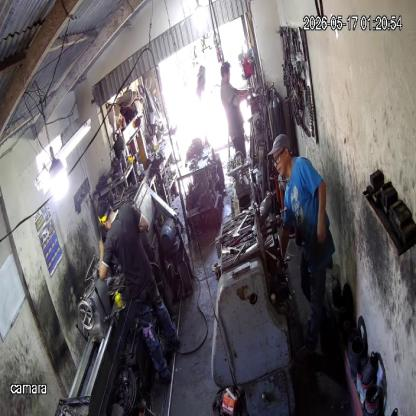lentes: (272, 148, 285, 164)
